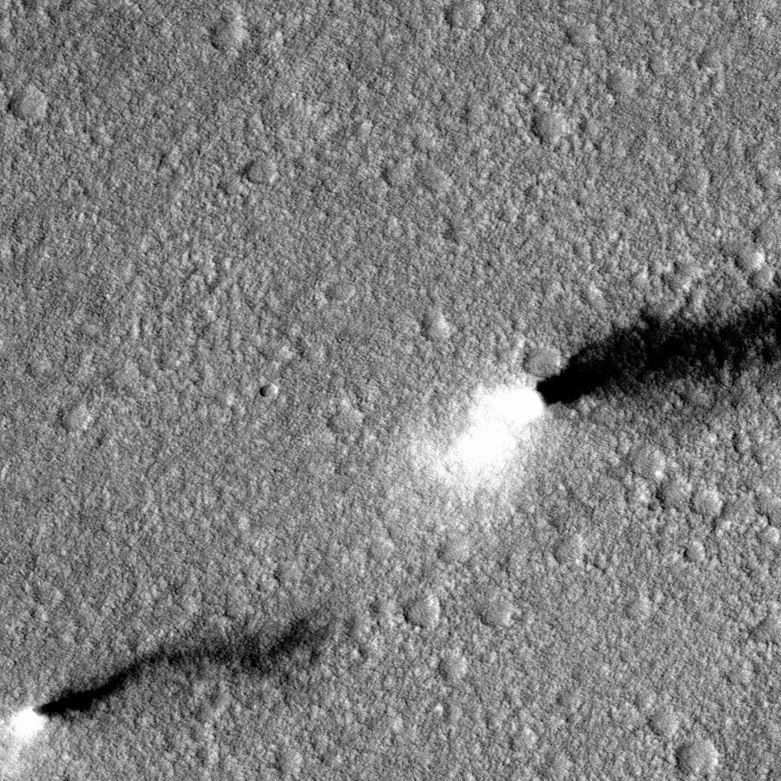dust_devil: (409, 271, 781, 493), (7, 612, 328, 748)
